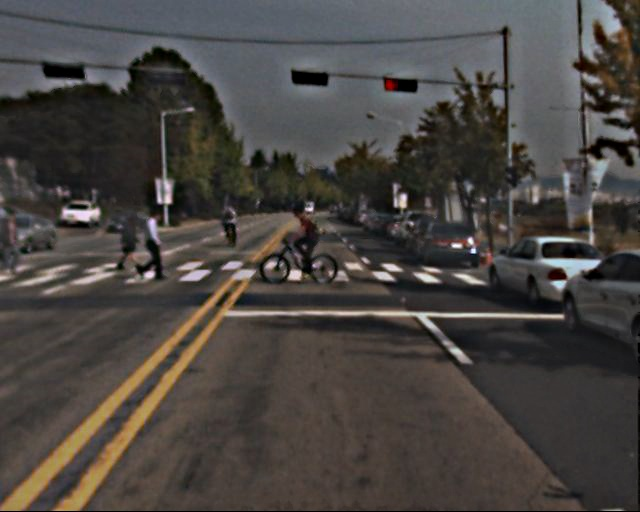person: (0, 211, 40, 270), (290, 204, 323, 275), (142, 207, 173, 280), (119, 212, 146, 270), (222, 205, 240, 243)
